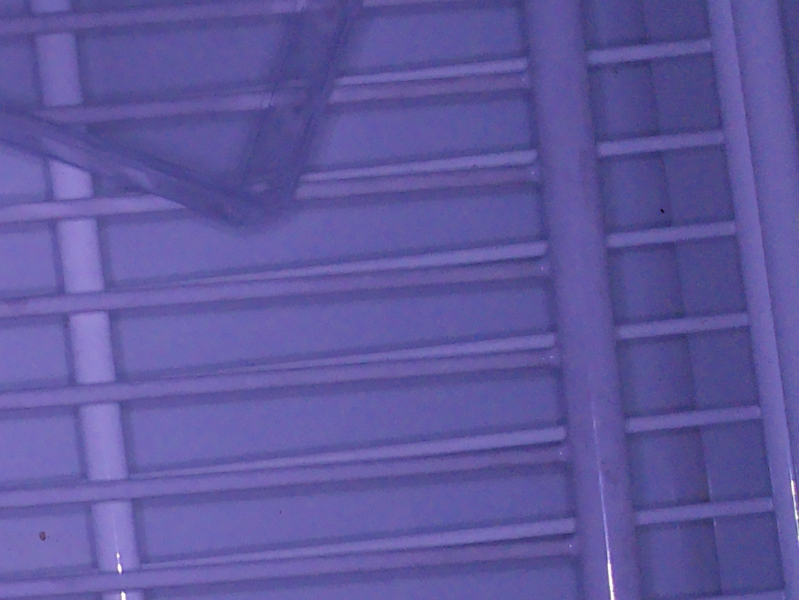plate: (1, 1, 357, 234)
